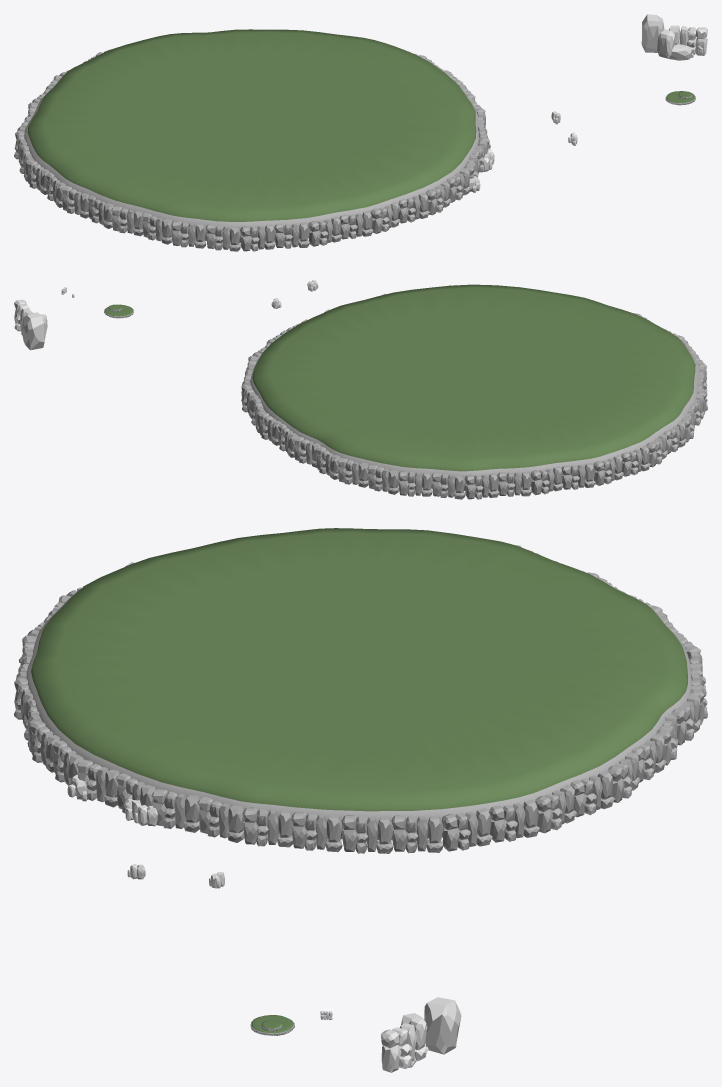
3 views of the same model, one above another, from view 1: azimuth 30°, elevation 25°; view 2: azimuth 150°, elevation 25°; view 3: azimuth 270°, elevation 25° (orthographic). The views are drawn at different scales.
Visible parts, largest first — view 1: Plane.004, Cube.013, Plane.005, Cube.006, Cube.005, Cube.003; view 2: Plane.004, Cube.013, Plane.005, Cube.005, Cube.006; view 3: Plane.004, Cube.013, Plane.005, Cube.006, Cube.005.
Boxes of the visible parts, x1=… form: Plane.004: x1=27, y1=29, x2=476, y2=221; Cube.013: x1=14, y1=49, x2=490, y2=251; Plane.005: x1=24, y1=76, x2=479, y2=242; Cube.006: x1=669, y1=25, x2=707, y2=55; Cube.005: x1=641, y1=14, x2=664, y2=52; Cube.003: x1=657, y1=29, x2=674, y2=58; Plane.004: x1=252, y1=284, x2=695, y2=471; Cube.013: x1=241, y1=285, x2=707, y2=499; Plane.005: x1=250, y1=339, x2=699, y2=490; Cube.005: x1=21, y1=312, x2=44, y2=350; Cube.006: x1=14, y1=299, x2=33, y2=331; Plane.004: x1=31, y1=528, x2=687, y2=811; Cube.013: x1=14, y1=541, x2=707, y2=853; Plane.005: x1=26, y1=589, x2=692, y2=839; Cube.006: x1=381, y1=1016, x2=428, y2=1072; Cube.005: x1=424, y1=997, x2=461, y2=1054.
Size of the model in its own units: 797 by 68.67 by 488.
